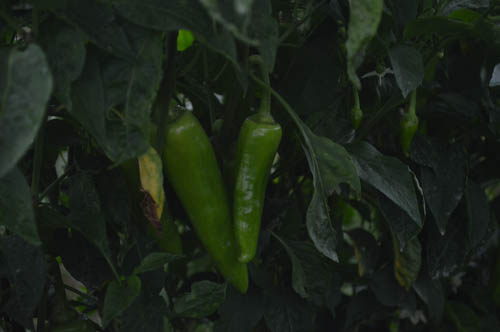ChiliPepper: (165, 113, 249, 291), (233, 119, 282, 265)
